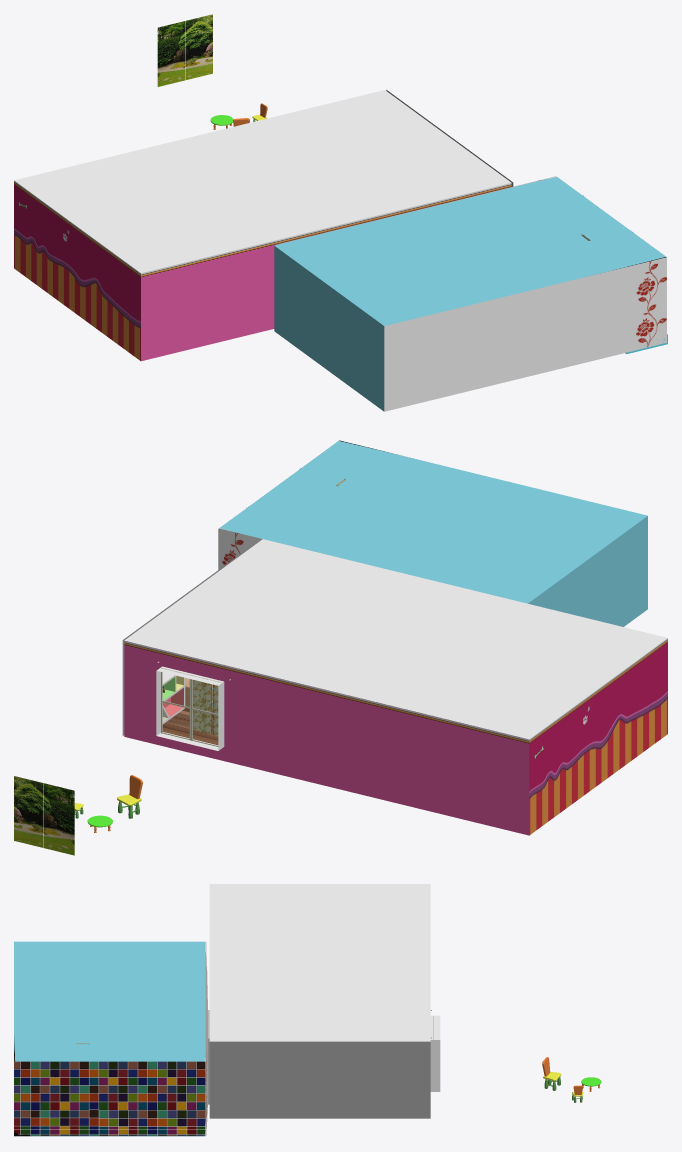
Rendered from petting room .fbx.
3 renders of one model, top to bottom at view 1: azimuth 30°, elevation 25°; view 2: azimuth 150°, elevation 25°; view 3: azimuth 270°, elevation 25°, orthographic. The views are drawn at different scales.
Visible parts, largest first — view 1: petting_room_final:polySurface44, petting_room_final:polySurface43, petting_room_final:pCube79, petting_room_final:pCube78; view 2: petting_room_final:polySurface44, petting_room_final:polySurface43, petting_room_final:pCube79, petting_room_final:pCube78, petting_room_final:pPlane5, petting_room_final:pPlane2, petting_room_final:polySurface40; view 3: petting_room_final:polySurface44, petting_room_final:polySurface42.
Part boxes in pixels (left/top/right/bottom): petting_room_final:polySurface44: left=14, top=90, right=666, bottom=411; petting_room_final:polySurface43: left=14, top=180, right=511, bottom=361; petting_room_final:pCube79: left=157, top=21, right=185, bottom=86; petting_room_final:pCube78: left=186, top=14, right=212, bottom=79; petting_room_final:polySurface44: left=124, top=440, right=667, bottom=750; petting_room_final:polySurface43: left=124, top=638, right=667, bottom=835; petting_room_final:pCube79: left=44, top=783, right=74, bottom=855; petting_room_final:pCube78: left=14, top=776, right=43, bottom=847; petting_room_final:pPlane5: left=162, top=672, right=185, bottom=724; petting_room_final:pPlane2: left=193, top=680, right=211, bottom=734; petting_room_final:polySurface40: left=218, top=529, right=261, bottom=569; petting_room_final:polySurface44: left=14, top=884, right=440, bottom=1136; petting_room_final:polySurface42: left=209, top=1042, right=430, bottom=1118.
Bounding box in the file's own units: 173 × 35.72 × 271.
